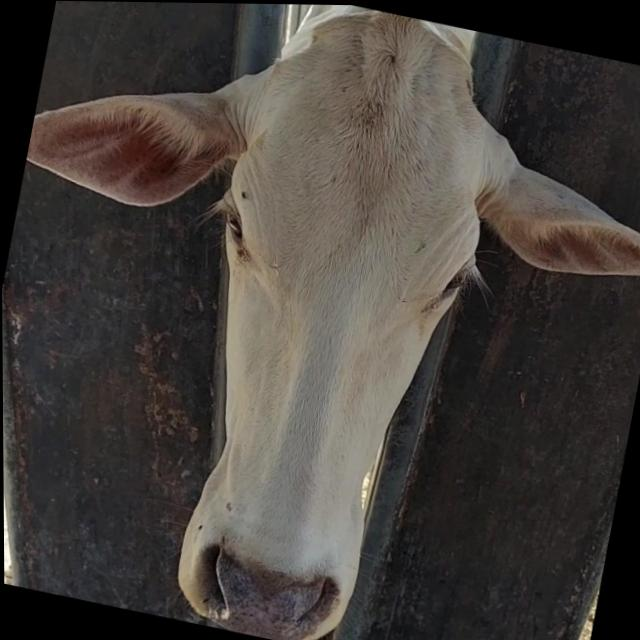cowFace: (136, 2, 520, 640)
